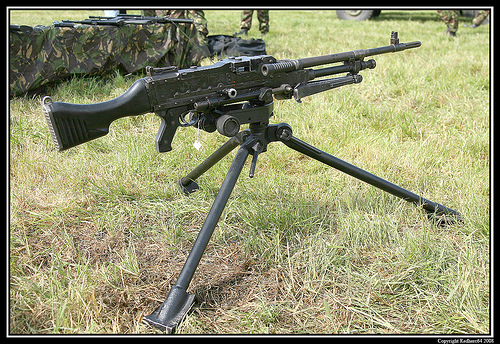rifle: (30, 34, 431, 299)
